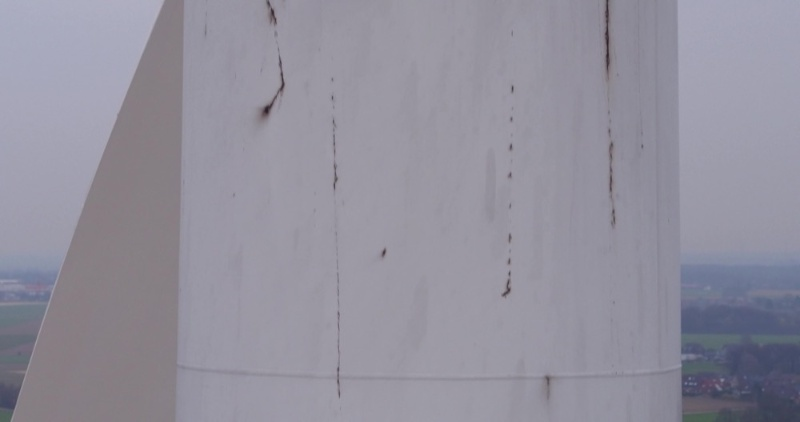weldseam: (174, 353, 685, 388)
